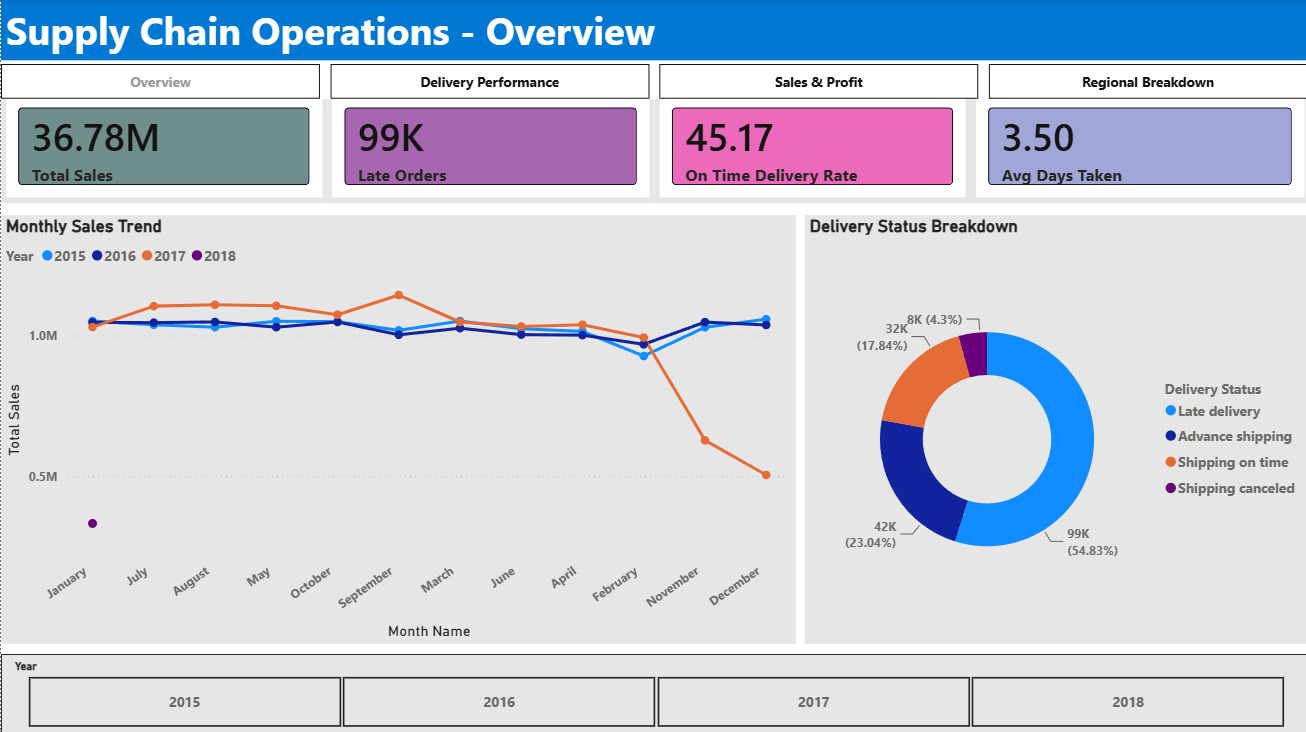

What the dashboard file says about the page in this screenshot:
{"tool":"powerbi","page":{"name":"Overview","canvas":[1280,720],"ordinal":0},"visuals":[{"type":"cardVisual","fields":{"Data":["_Measures.Total Sales"]},"box":[0,89.3,319.2,110.1],"z":0},{"type":"cardVisual","fields":{"Data":["_Measures.On Time Delivery Rate"]},"box":[639.5,89.3,309.4,110.1],"z":1000},{"type":"cardVisual","fields":{"Data":["_Measures.Late Orders"]},"box":[319.2,89.3,320.4,110.1],"z":2000},{"type":"cardVisual","fields":{"Data":["_Measures.Avg Days Taken"]},"box":[948.9,89.3,331.4,110.1],"z":3000},{"type":"lineChart","title":"Monthly Sales Trend","fields":{"Category":["Date Table.Month Name"],"Series":["Date Table.Year"],"Y":["_Measures.Total Sales"]},"box":[0,211.6,777.7,419.4],"z":4000},{"type":"donutChart","title":"Delivery Status Breakdown","fields":{"Y":["_Measures.Total Orders"],"Category":["DataCoSupplyChainDataset.Delivery Status"]},"box":[786.3,211.6,494,419.4],"z":5000},{"type":"slicer","fields":{"Values":["Date Table.Year"]},"box":[0,640.8,1280.3,79.5],"z":6000},{"type":"textbox","box":[0,0,1280.3,60],"z":7000},{"type":"pageNavigator","box":[0,63.6,1280.3,34.2],"z":8000},{"type":"slicer","fields":{"Values":["Date Table.Year"]},"box":[0,640.5,1280.3,79.5],"z":8001}]}

Visuals, with their boxes in screenshot pixels (x1, y1, x2, y2), scaled from the page's 1280x720 canvas onto the 1306x732 screenshot:
cardVisual - _Measures.Total Sales: detection(0, 91, 326, 203)
cardVisual - _Measures.On Time Delivery Rate: detection(652, 91, 968, 203)
cardVisual - _Measures.Late Orders: detection(326, 91, 653, 203)
cardVisual - _Measures.Avg Days Taken: detection(968, 91, 1305, 203)
"Monthly Sales Trend" lineChart: detection(0, 215, 793, 642)
"Delivery Status Breakdown" donutChart: detection(802, 215, 1305, 642)
slicer - Date Table.Year: detection(0, 651, 1305, 731)
textbox: detection(0, 0, 1305, 61)
pageNavigator: detection(0, 65, 1305, 99)
slicer - Date Table.Year: detection(0, 651, 1305, 731)
